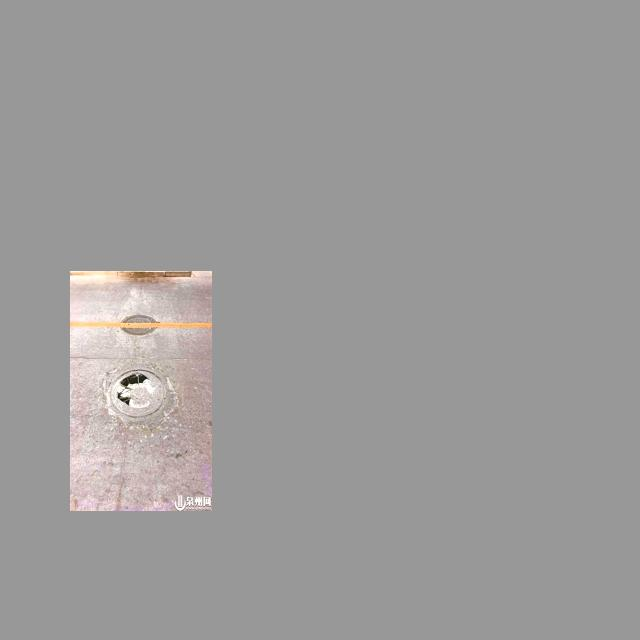broke: (98, 358, 186, 434)
